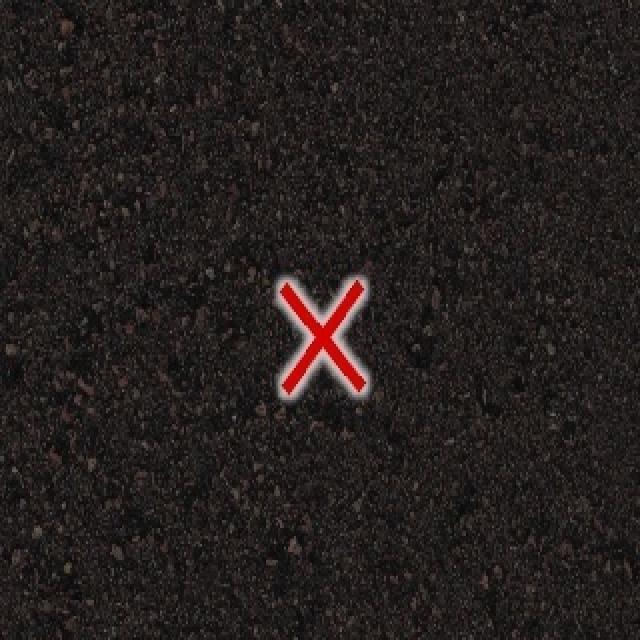x_marker: (279, 282, 365, 394)
